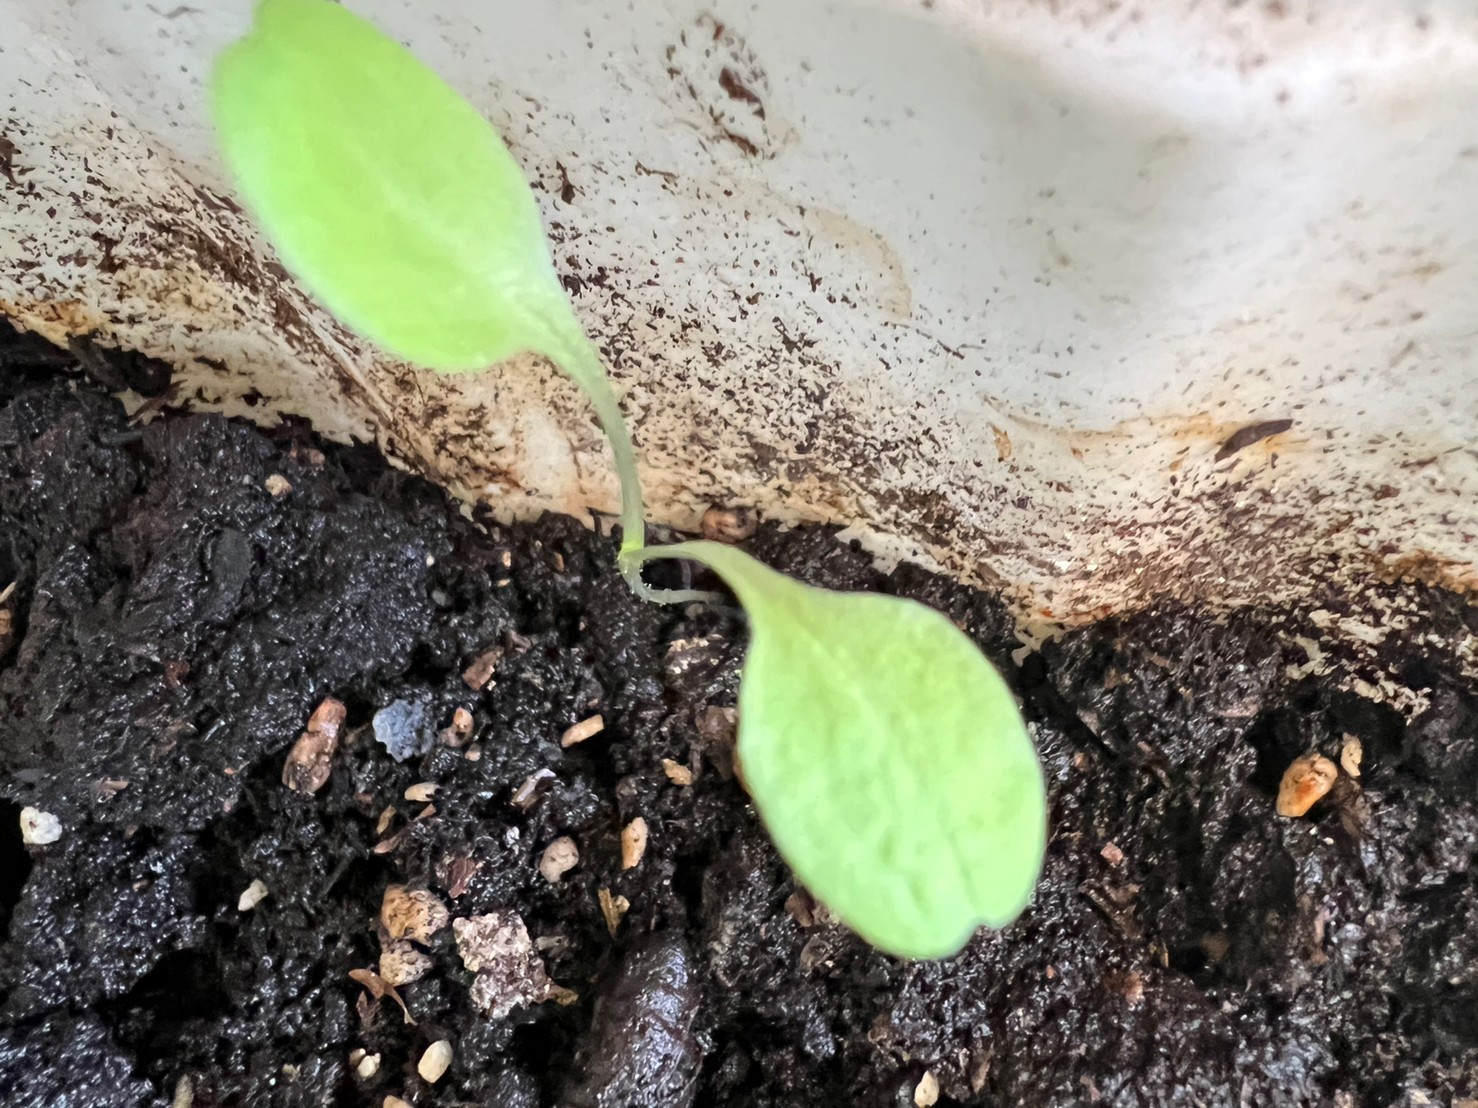week2: (163, 3, 1163, 1023)
